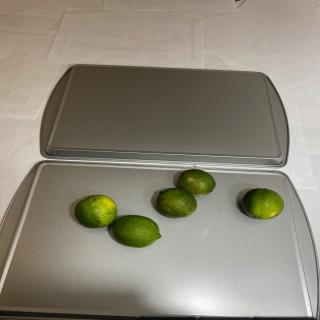Apple: (242, 188, 284, 220)
Lemon: (112, 215, 162, 248), (74, 194, 118, 228), (156, 188, 197, 218), (178, 169, 216, 196)
